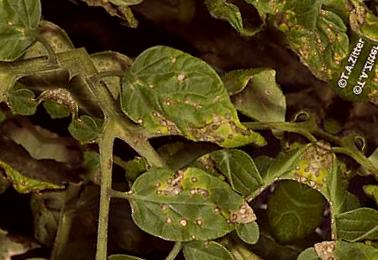Tomato Septoria leaf spot: (108, 26, 295, 176), (115, 140, 269, 260), (254, 117, 329, 205), (225, 0, 317, 28), (105, 246, 255, 260), (101, 0, 160, 25)
